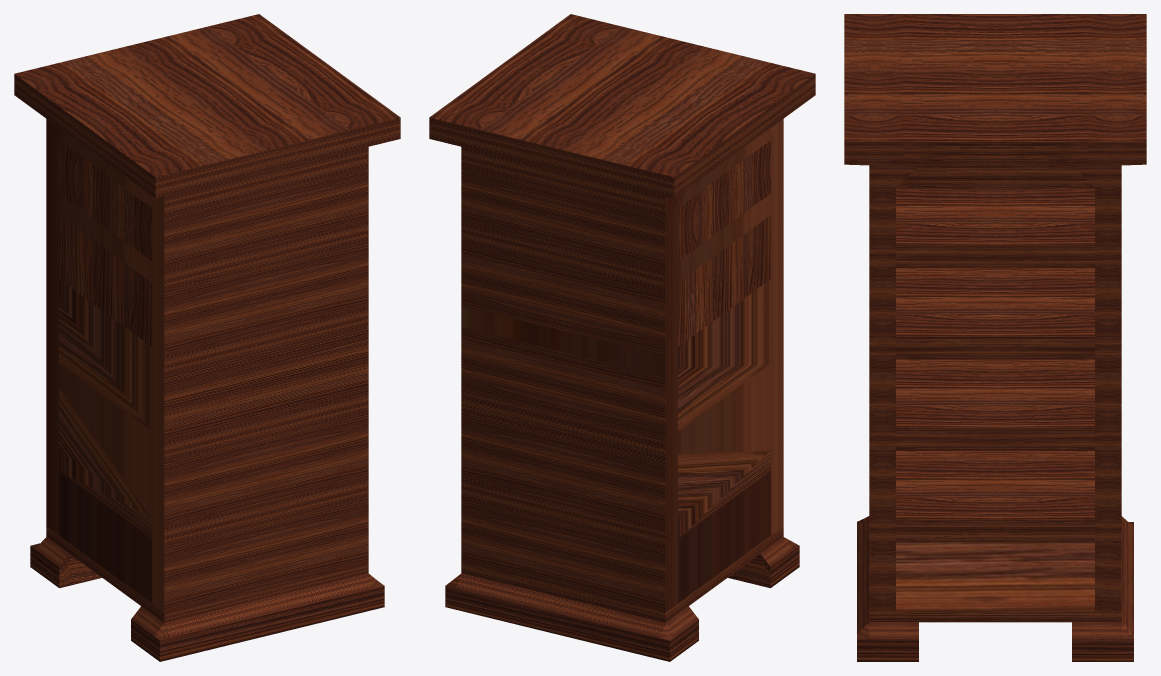
File: 1 Gaveteiro.fbx
The picture shows the model from 3 angles, left to right: view 1: azimuth 30°, elevation 25°; view 2: azimuth 150°, elevation 25°; view 3: azimuth 270°, elevation 25°; orthographic projection. The views are drawn at different scales.
Parts seen in each view (by area): view 1: Cube.008; view 2: Cube.008; view 3: Cube.008.
Part boxes in pixels (x1,y1,x2,y2): Cube.008: [14, 14, 400, 661]; Cube.008: [429, 14, 815, 661]; Cube.008: [844, 14, 1146, 661].
Size of the model in its own units: 240 by 460 by 240.
